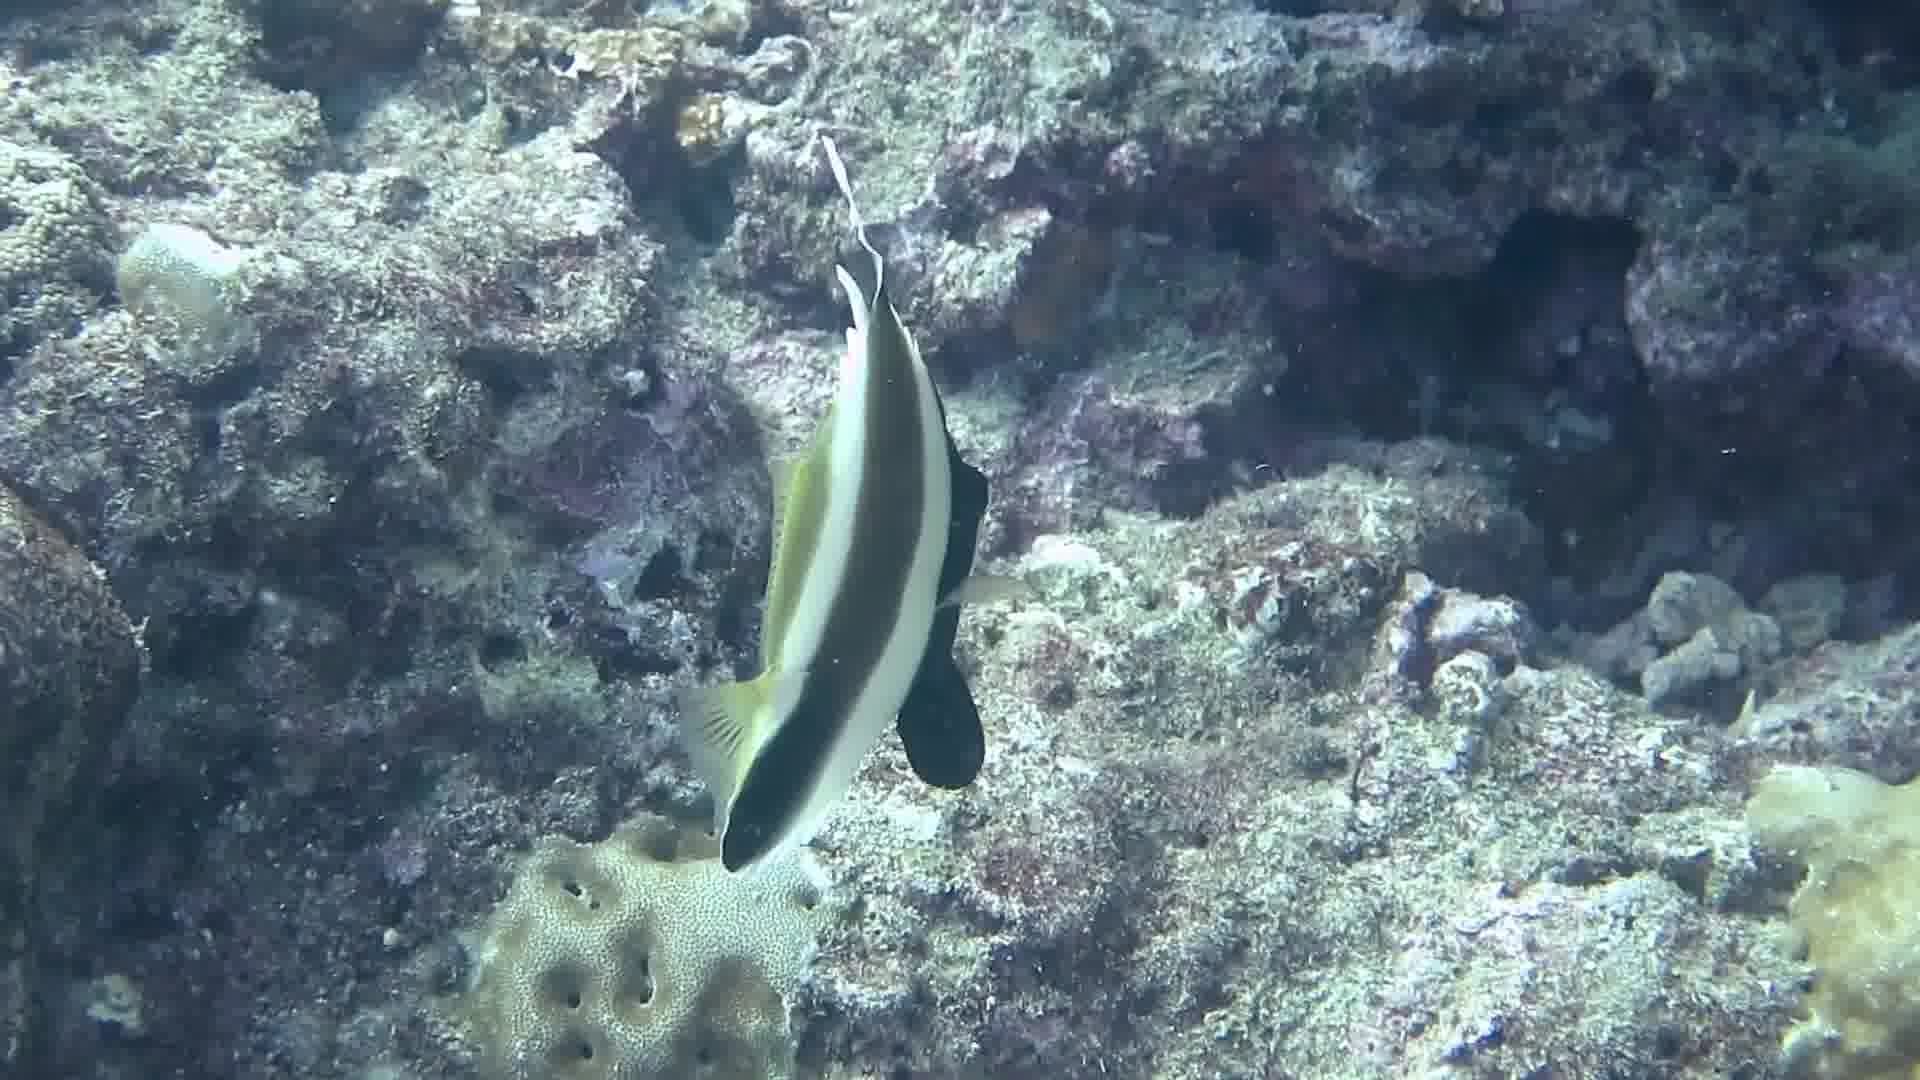Heniochus chrysostomus: (439, 149, 1240, 893)
